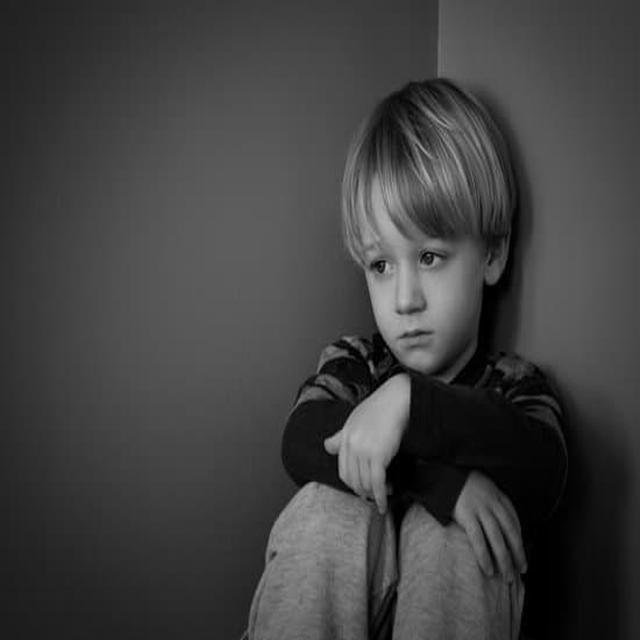Sadness: (365, 165, 483, 373)
